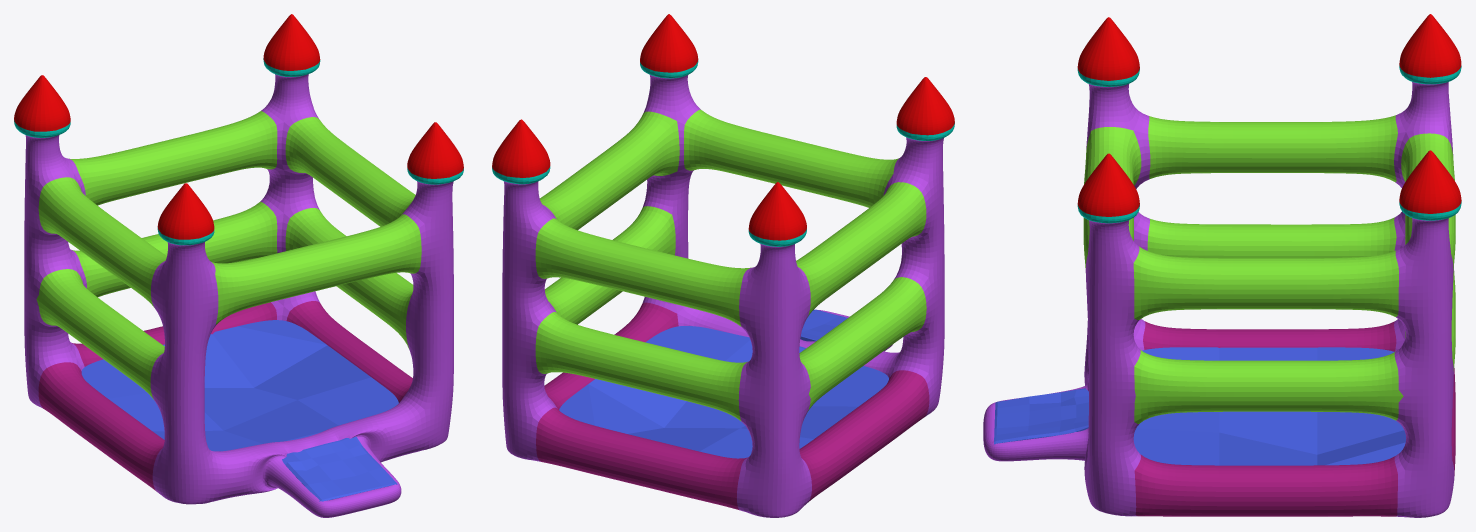
Rendered from bouncy_castle.fbx.
3 views of the same model, side by side, from view 1: azimuth 30°, elevation 25°; view 2: azimuth 150°, elevation 25°; view 3: azimuth 270°, elevation 25° (orthographic). The views are drawn at different scales.
Visible parts, largest first — view 1: bouncy_castle; view 2: bouncy_castle; view 3: bouncy_castle.
Part boxes in pixels (x1=…): bouncy_castle: x1=14, y1=14, x2=463, y2=517; bouncy_castle: x1=492, y1=14, x2=954, y2=517; bouncy_castle: x1=983, y1=14, x2=1461, y2=517.
Size of the model in its own units: 5.98 by 6.24 by 7.44.
